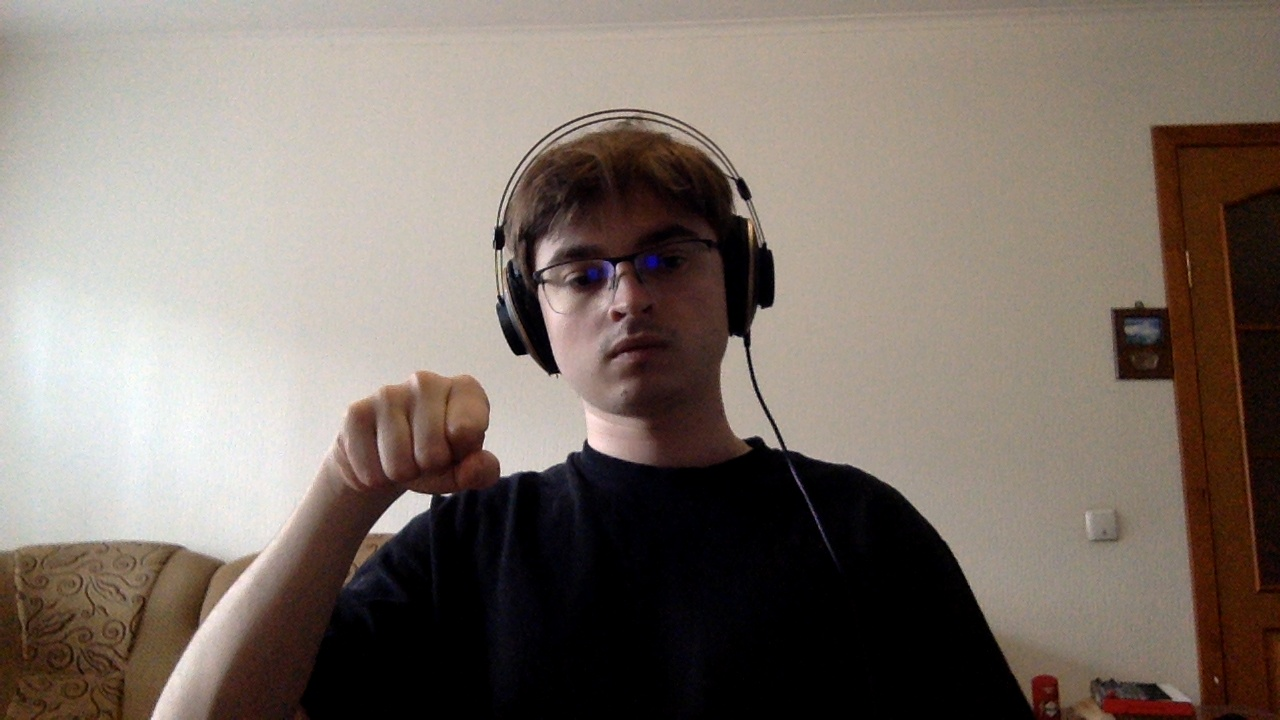yes: (283, 340, 532, 531)
